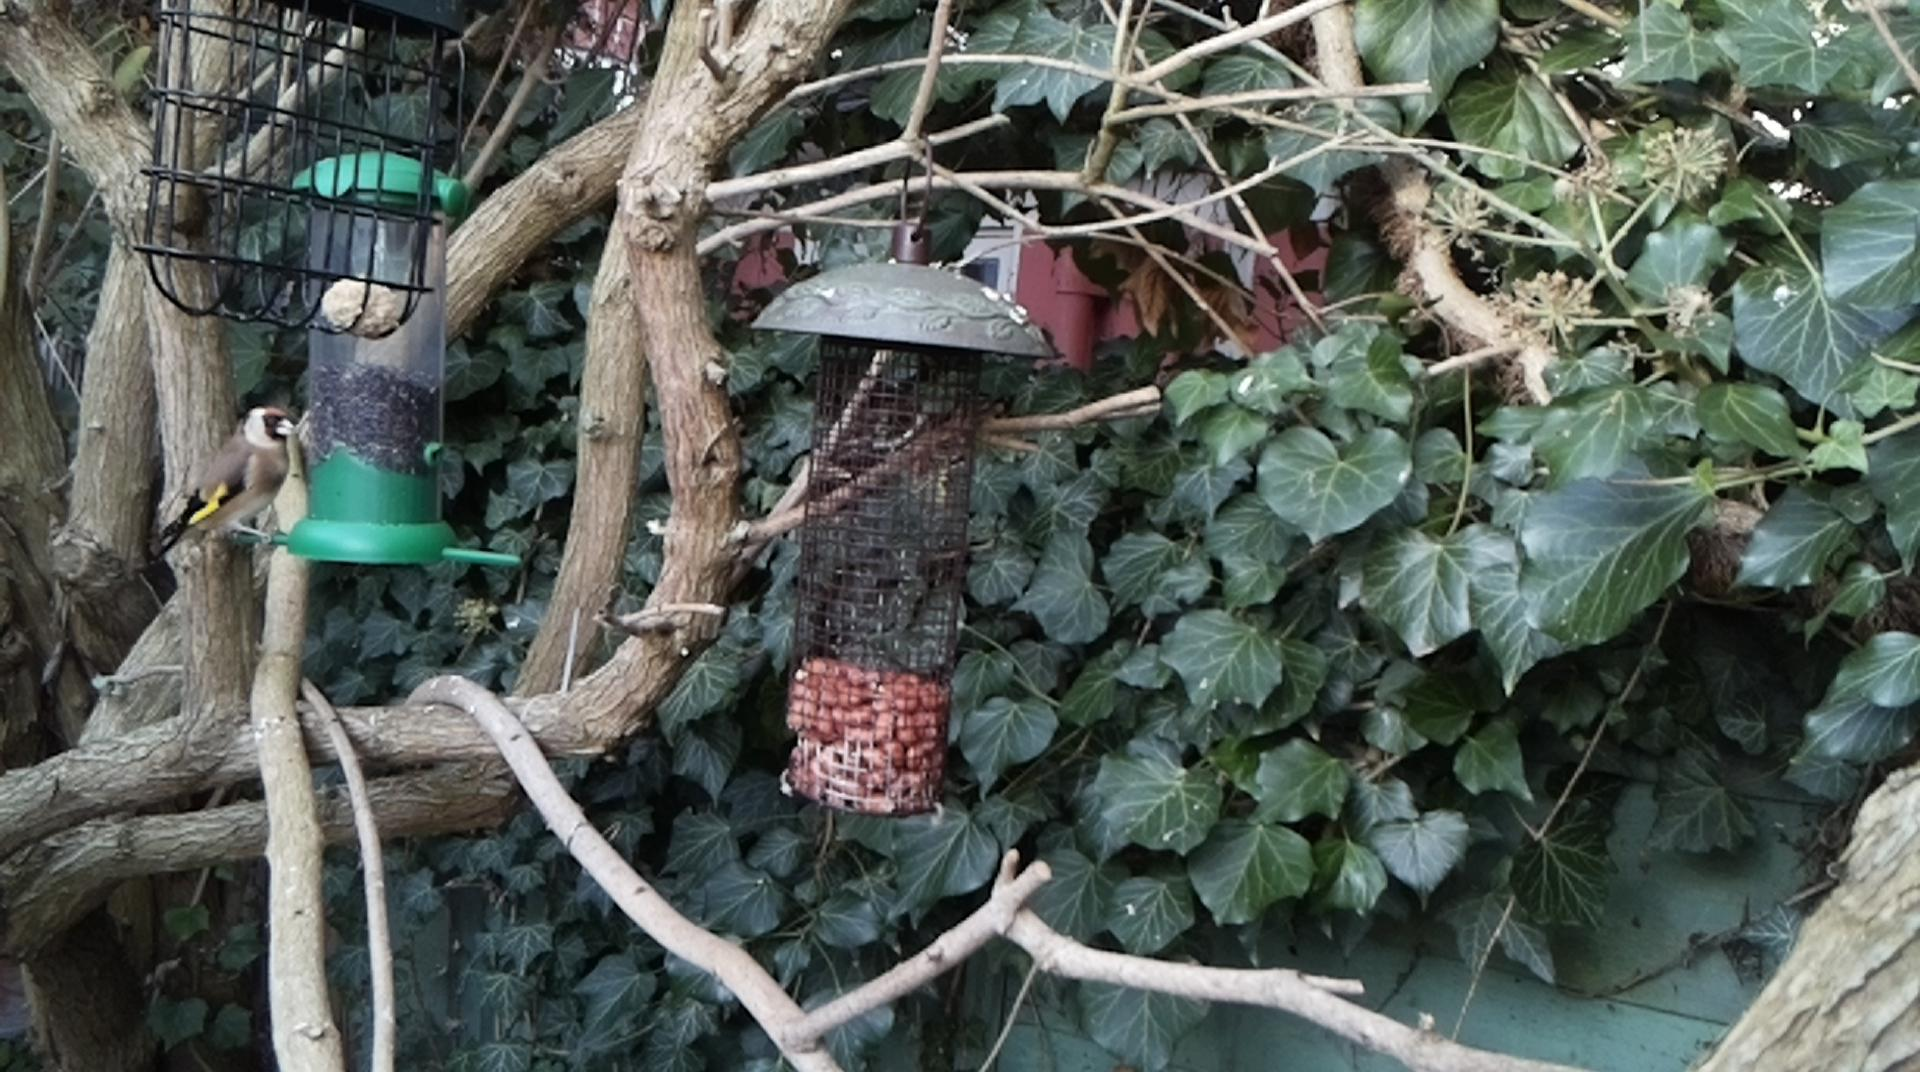goldfinch: (146, 400, 301, 562)
